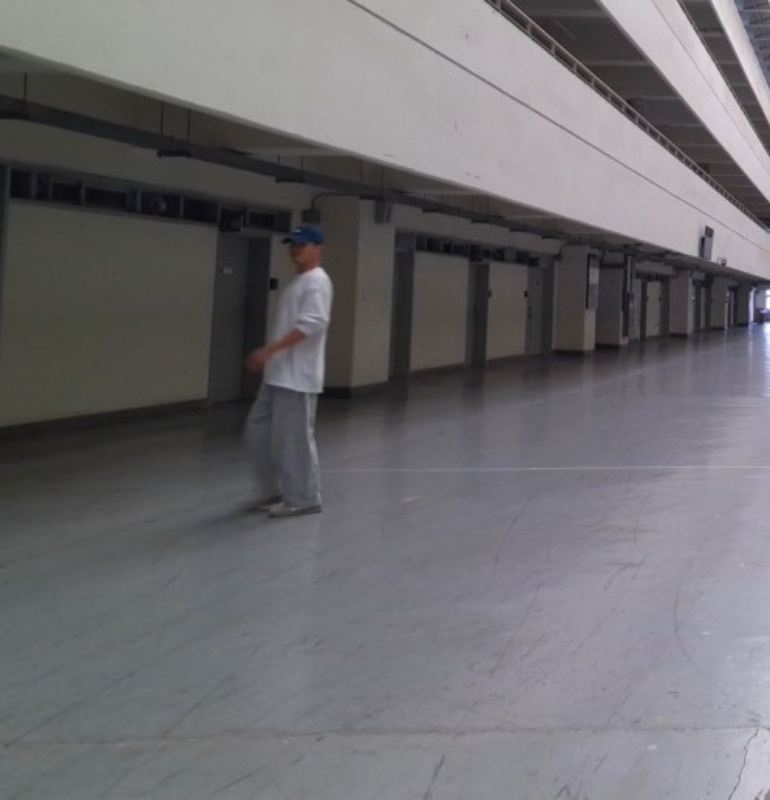person: (240, 223, 338, 520)
